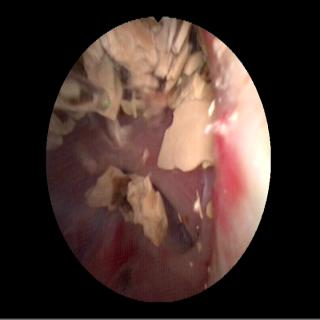stone: (49, 20, 214, 171), (85, 168, 167, 246), (195, 191, 203, 219), (206, 199, 213, 218)
tissue: (50, 43, 268, 293)
